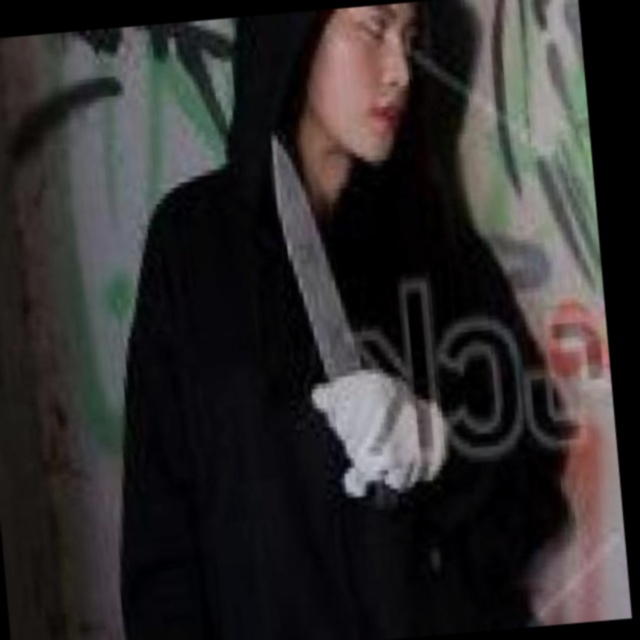Sharp-Object: (272, 128, 400, 511)
